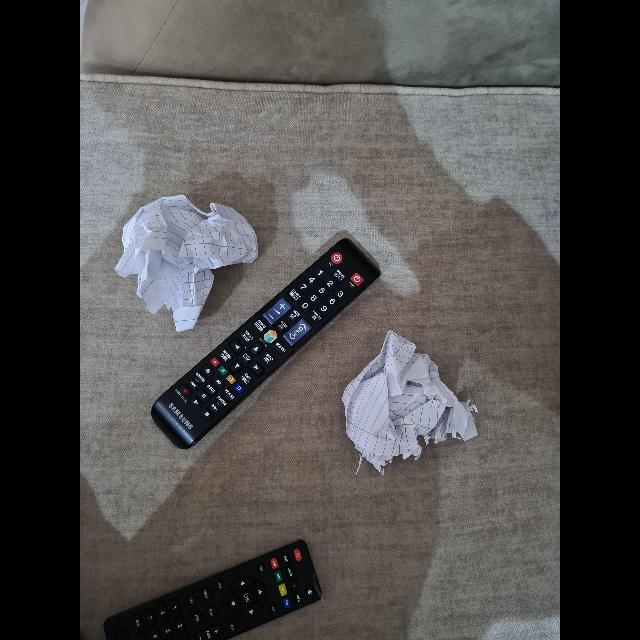scrap_paper: (105, 194, 268, 322), (333, 330, 475, 470)
